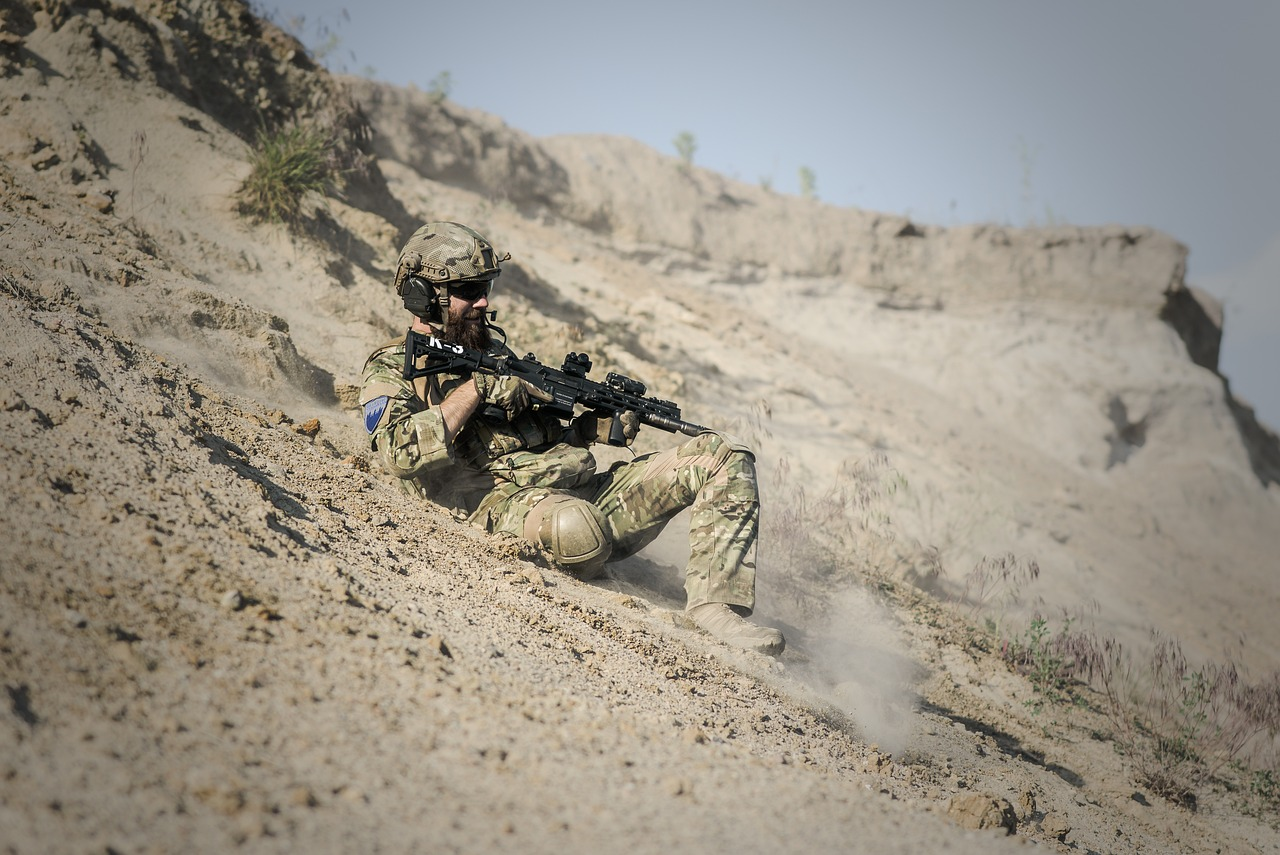gun: (398, 324, 717, 452)
